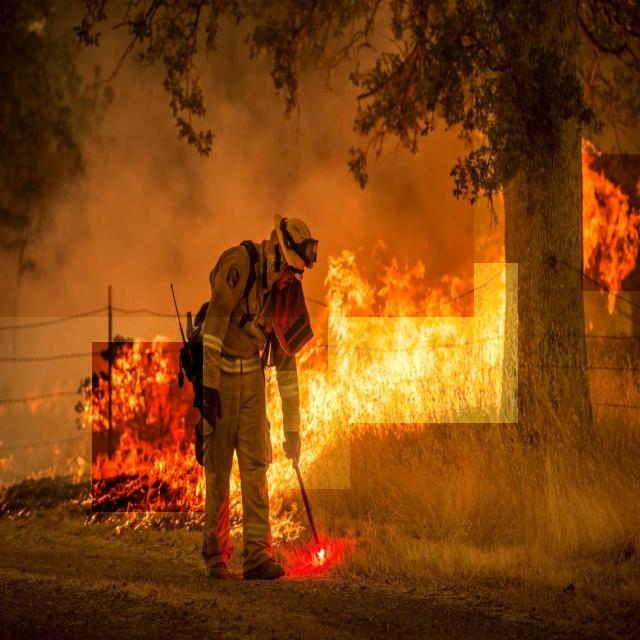Fire: (328, 263, 518, 423), (92, 342, 203, 512), (265, 372, 350, 489), (581, 154, 640, 291)
Smoke: (0, 0, 474, 317)
